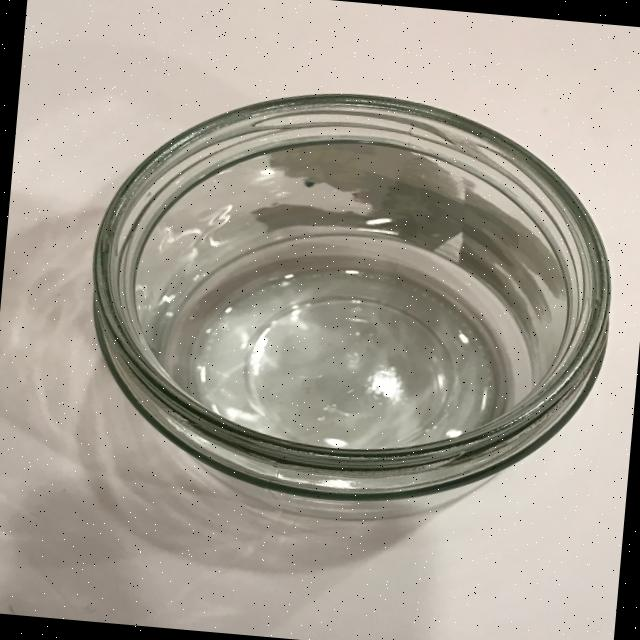glass: (72, 71, 628, 534)
